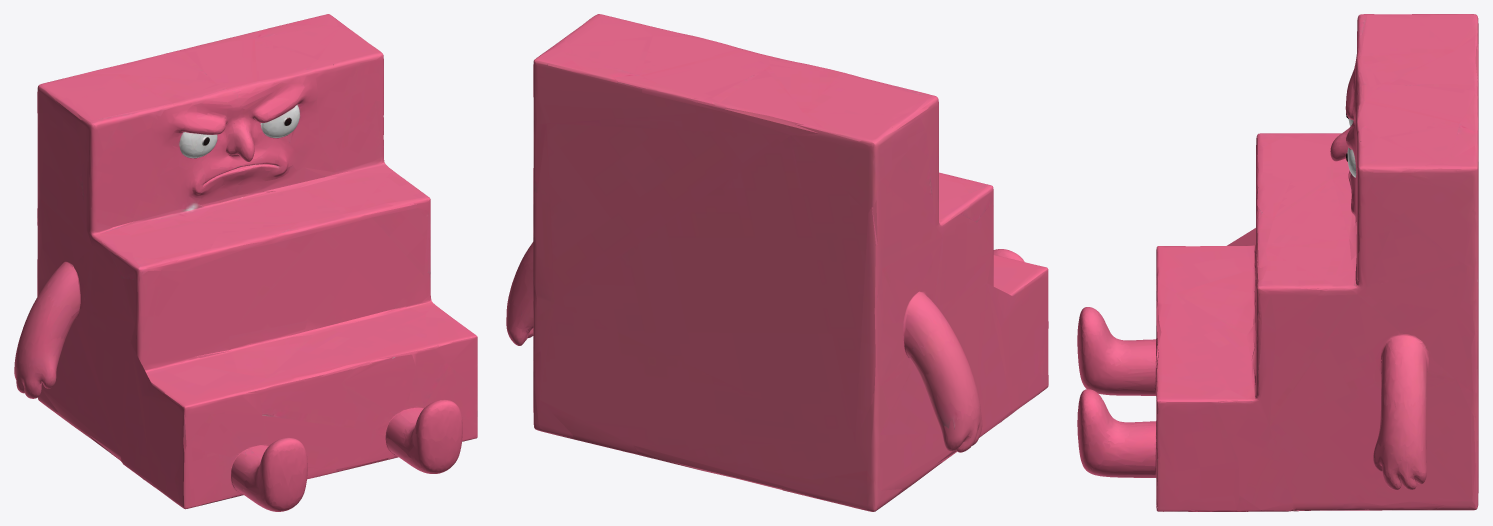
Rendered from stairgoblin.glb.
3 renders of one model, left to right at view 1: azimuth 30°, elevation 25°; view 2: azimuth 150°, elevation 25°; view 3: azimuth 270°, elevation 25°, orthographic. The views are drawn at different scales.
Size of the model in its own units: 1.9 by 1.45 by 1.53.
Materials: 1 (1 with a texture image).
